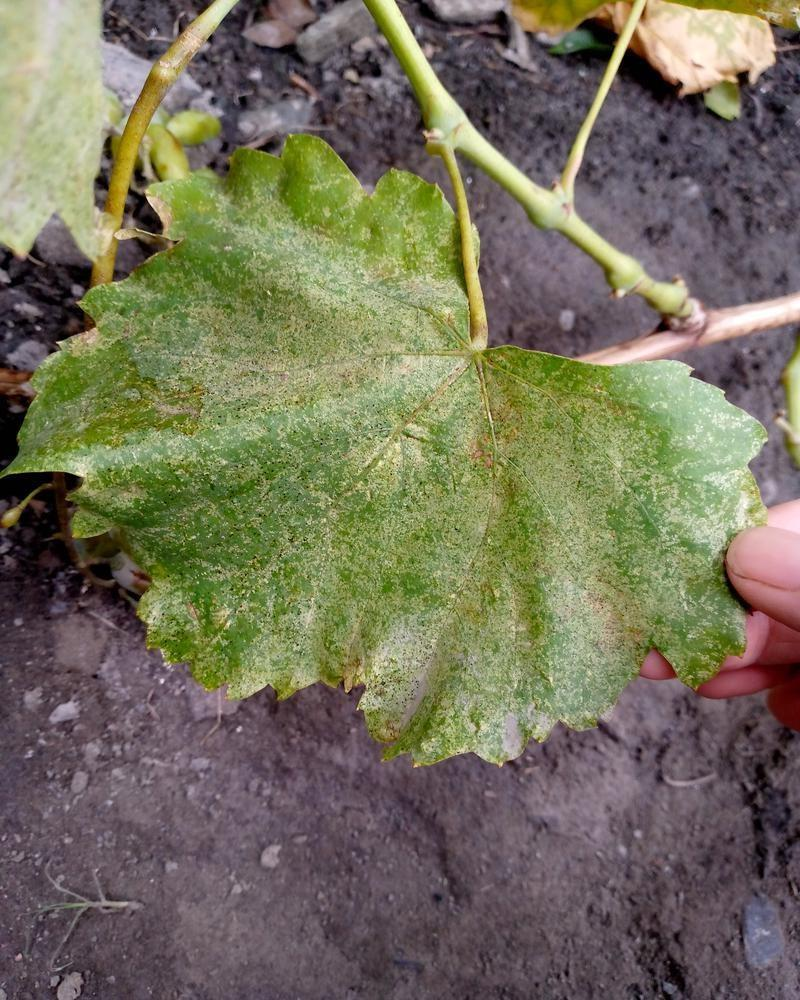Powdery-Mildew: (245, 334, 487, 444), (364, 635, 542, 762), (90, 319, 210, 455), (388, 402, 551, 481), (645, 490, 747, 612), (216, 192, 346, 278), (548, 539, 641, 652), (346, 237, 453, 324), (572, 378, 635, 441), (704, 413, 767, 476), (77, 453, 140, 516), (546, 469, 609, 532), (428, 477, 491, 540), (147, 587, 210, 650), (466, 587, 529, 650), (263, 631, 326, 694), (540, 651, 603, 714)
